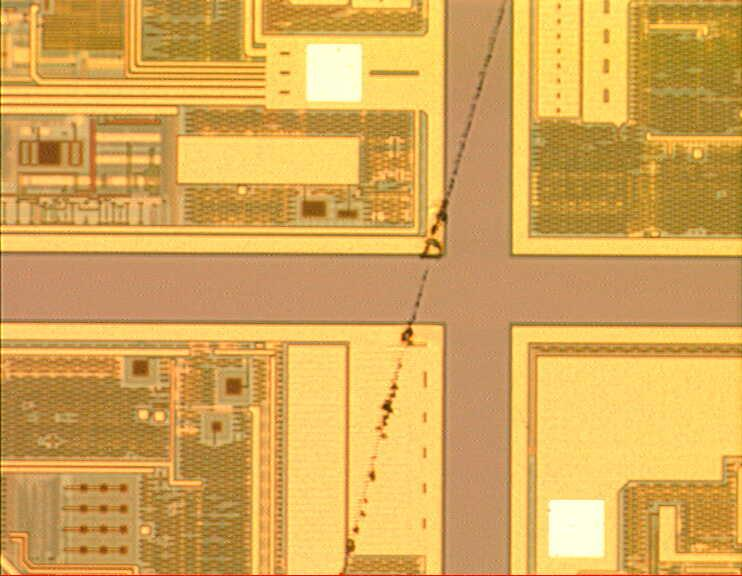SCRATCH: (326, 1, 524, 576)
